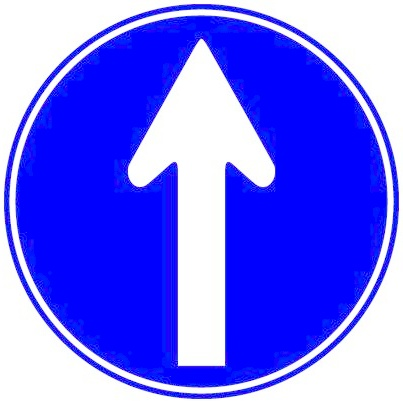Direction_sign: (1, 3, 399, 400)
